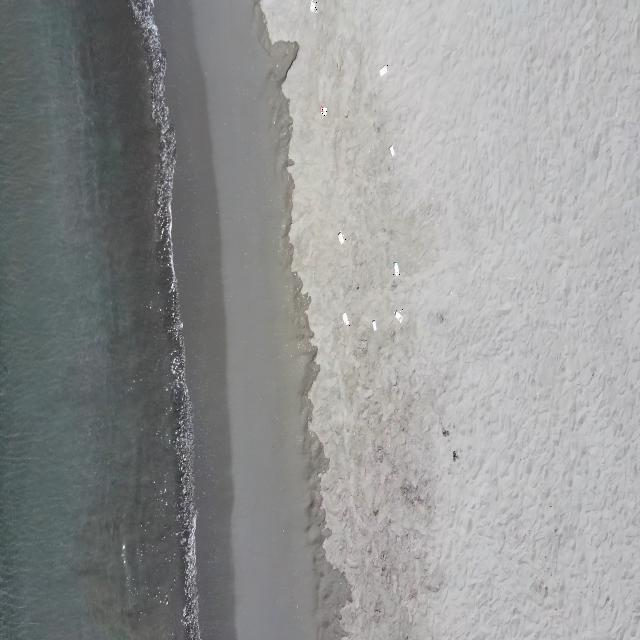Garbage: (392, 260, 399, 276), (393, 308, 400, 322), (379, 64, 387, 75), (337, 231, 344, 243), (388, 144, 395, 156), (320, 104, 327, 115), (310, 0, 316, 12), (343, 312, 348, 324), (372, 320, 375, 331)
